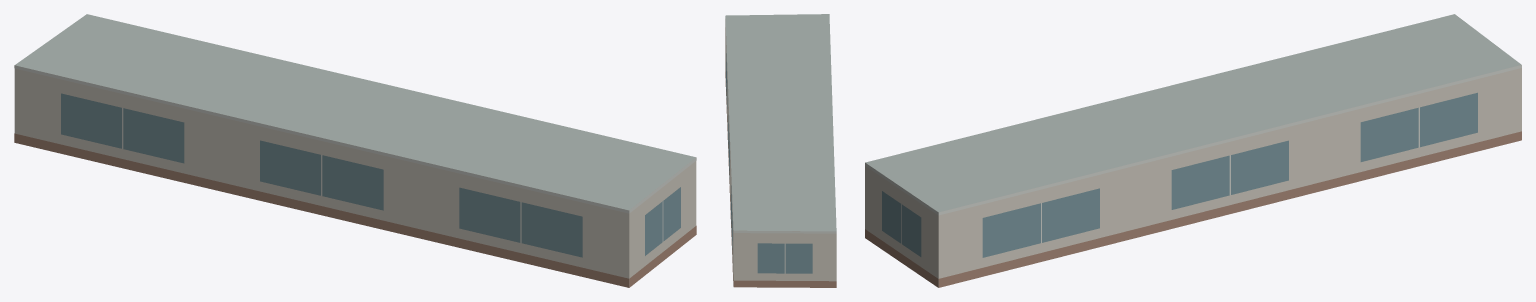
File: survey-upis-32637607.glb
The picture shows the model from 3 angles, left to right: view 1: azimuth 30°, elevation 25°; view 2: azimuth 150°, elevation 25°; view 3: azimuth 270°, elevation 25°; orthographic projection. The views are drawn at different scales.
Parts seen in each view (by area): view 1: survey-upis-32637607.tmp; view 2: survey-upis-32637607.tmp; view 3: survey-upis-32637607.tmp.
Part boxes in pixels (left/top/right/bottom): survey-upis-32637607.tmp: left=14, top=14, right=696, bottom=287; survey-upis-32637607.tmp: left=725, top=14, right=836, bottom=287; survey-upis-32637607.tmp: left=865, top=14, right=1521, bottom=287.
Bounding box in the file's own units: 17.2 × 3.05 × 24.06.
